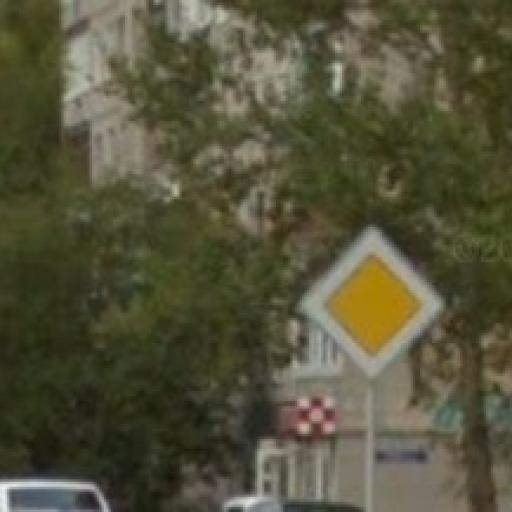traffic_sign: (298, 221, 447, 385)
